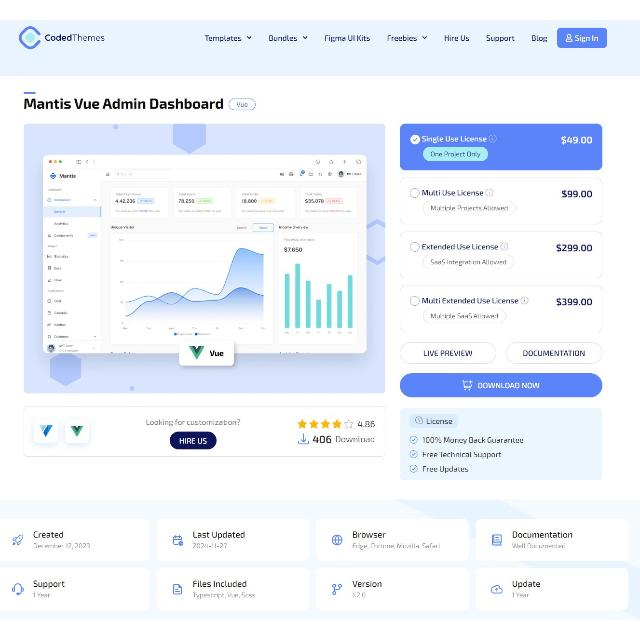QLabel: (22, 97, 224, 111), (422, 436, 524, 444), (145, 419, 241, 426), (422, 452, 502, 460), (422, 298, 518, 304), (430, 312, 498, 320), (422, 243, 498, 250), (352, 544, 440, 550), (192, 592, 255, 600), (522, 350, 584, 358), (478, 382, 540, 390), (512, 532, 572, 540), (430, 205, 508, 211), (429, 260, 506, 266), (422, 190, 484, 197), (193, 580, 247, 588), (192, 531, 244, 539), (423, 350, 473, 358), (422, 136, 486, 142), (324, 35, 370, 43), (423, 466, 469, 474), (32, 543, 90, 549), (512, 543, 566, 549), (335, 436, 375, 444), (33, 580, 65, 590), (561, 135, 593, 145), (431, 152, 482, 158), (204, 35, 242, 43), (556, 298, 592, 306), (556, 244, 592, 252), (352, 532, 386, 540), (268, 34, 298, 42), (352, 580, 382, 588), (562, 190, 592, 198), (486, 35, 514, 43), (512, 581, 540, 589), (387, 34, 417, 41), (193, 543, 227, 549), (575, 35, 599, 43), (32, 532, 64, 538), (444, 34, 470, 41), (178, 438, 208, 444), (426, 419, 454, 425), (313, 436, 332, 444), (531, 35, 549, 43), (357, 421, 375, 429), (512, 592, 528, 600), (352, 592, 366, 600), (34, 593, 50, 599), (236, 102, 248, 108)
VAppBar: (0, 21, 640, 78)
VBtn: (400, 373, 602, 399), (400, 342, 496, 364), (506, 342, 602, 364), (556, 28, 608, 48), (170, 432, 217, 451)
VCard: (22, 406, 386, 458), (399, 408, 603, 482), (399, 231, 603, 279), (399, 285, 603, 333), (400, 123, 602, 171), (400, 177, 602, 225), (157, 519, 311, 563), (156, 567, 310, 611), (316, 567, 470, 611), (476, 518, 630, 562), (475, 568, 629, 612), (316, 518, 469, 562), (0, 567, 152, 611), (0, 518, 150, 562)
VChip: (423, 200, 515, 216), (424, 254, 514, 270), (422, 308, 506, 324), (424, 146, 488, 162), (409, 414, 458, 428), (228, 98, 256, 110)
VDivider: (24, 92, 36, 94)
VIcon: (39, 424, 53, 438), (70, 424, 84, 438), (11, 535, 23, 547), (12, 584, 24, 596), (172, 535, 184, 547), (461, 381, 473, 392), (172, 584, 182, 596), (332, 534, 342, 546), (332, 584, 342, 596), (492, 534, 502, 546), (298, 434, 308, 444), (491, 586, 503, 594), (565, 34, 573, 42), (409, 436, 417, 444), (409, 451, 417, 459), (410, 465, 418, 473), (489, 135, 497, 143), (500, 243, 508, 251), (416, 416, 422, 424), (486, 189, 492, 197), (522, 298, 528, 304), (246, 36, 252, 40), (302, 36, 308, 40), (422, 36, 428, 38)
VImg: (22, 122, 388, 396), (18, 24, 106, 52)
VRadio: (410, 296, 420, 306), (410, 242, 420, 252), (410, 188, 420, 198), (410, 135, 420, 145)
VRating: (297, 420, 353, 430)
